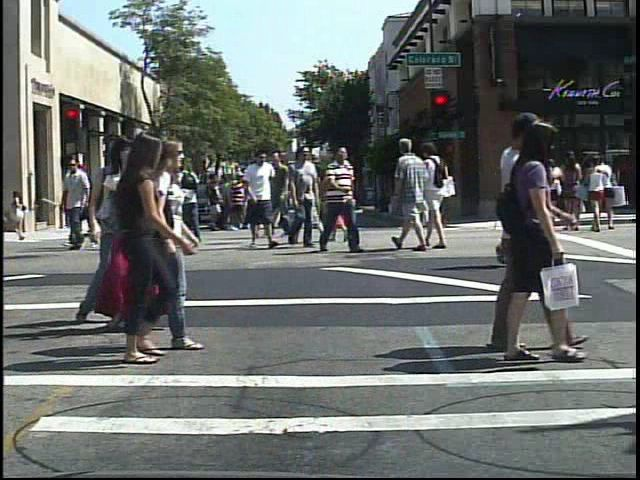person: (471, 108, 597, 358), (480, 114, 597, 364), (149, 135, 225, 353), (100, 131, 179, 337), (108, 129, 165, 371), (87, 131, 133, 336), (487, 125, 543, 268), (316, 142, 365, 256), (393, 134, 430, 256), (294, 141, 335, 250), (282, 142, 320, 251), (244, 145, 279, 256), (427, 136, 459, 249), (331, 147, 363, 248), (133, 157, 168, 244), (544, 154, 564, 232), (226, 168, 248, 236), (183, 153, 197, 251), (63, 183, 84, 233)
